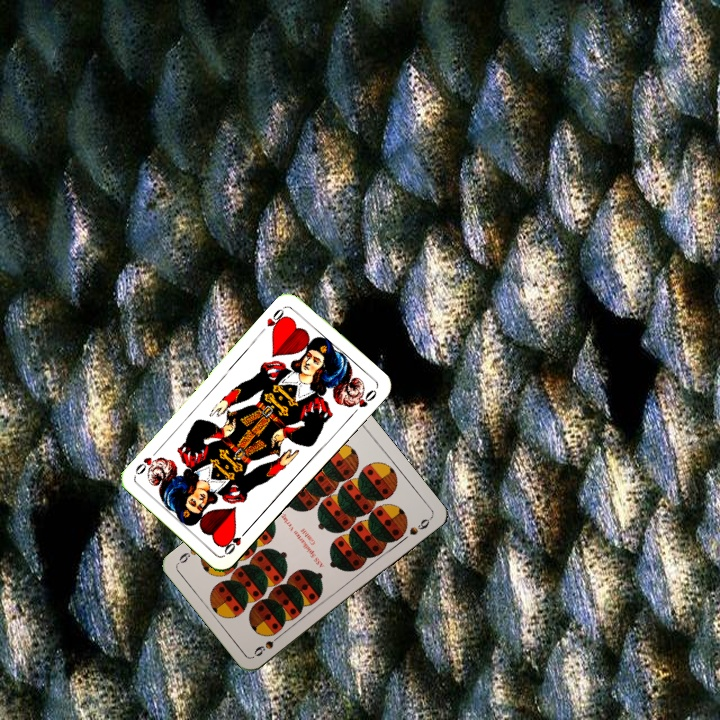HO: (220, 524, 252, 558), (263, 303, 290, 336)
S9: (250, 630, 285, 659)
